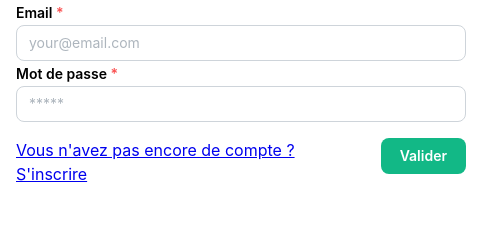
Test: le composant SigninForm › affiche les erreurs de validation et n'appelle pas handleSignin si le formulaire est soumis vide
This screenshot has width=487, height=238.
Click the button "Valider" at (423, 156), box [381,138,466,174]
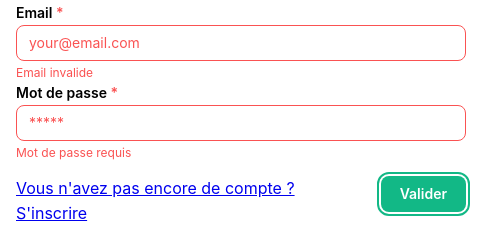
Expected: the text "Email invalide" is shown, [16,65,93,80]
Expected: the text "Mot de passe requis" is shown, [16,145,131,160]
